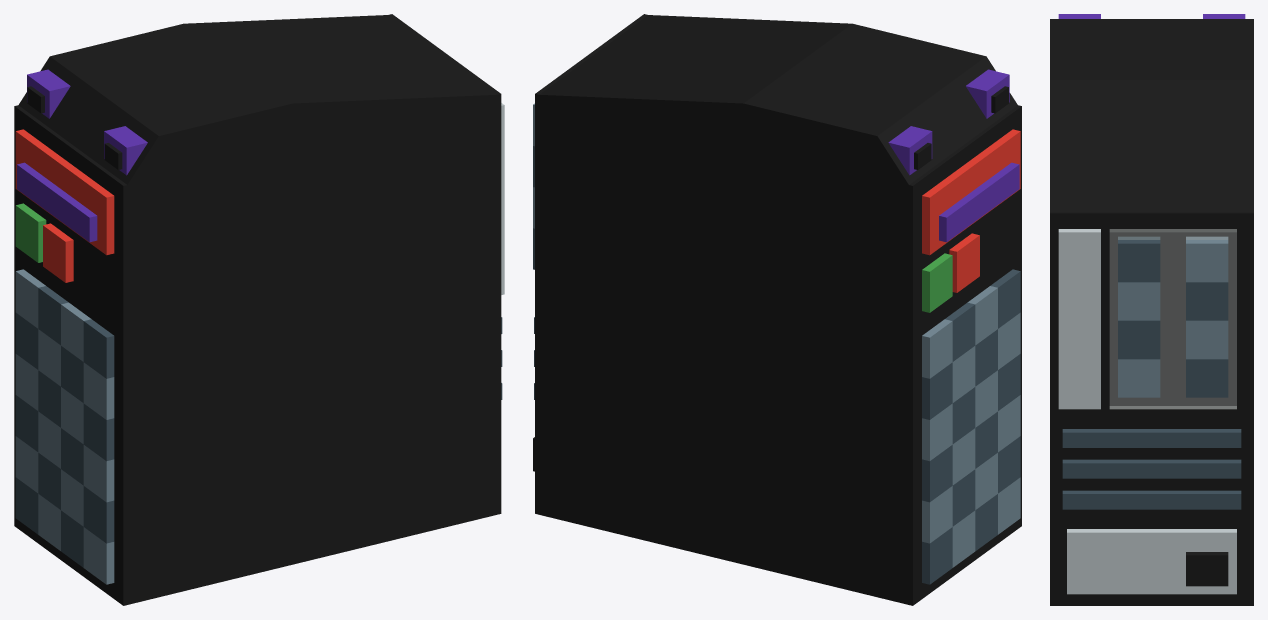
The model's file is tower.glb.
3 views of the same model, side by side, from view 1: azimuth 30°, elevation 25°; view 2: azimuth 150°, elevation 25°; view 3: azimuth 270°, elevation 25° (orthographic). The views are drawn at different scales.
Visible parts, largest first — view 1: Node; view 2: Node; view 3: Node.
Boxes of the visible parts, x1,y1,x2,y2 form: Node: (14,14,504,605); Node: (533,14,1021,605); Node: (1050,14,1253,605).
Size of the model in its own units: 0.52 by 0.56 by 0.24.
